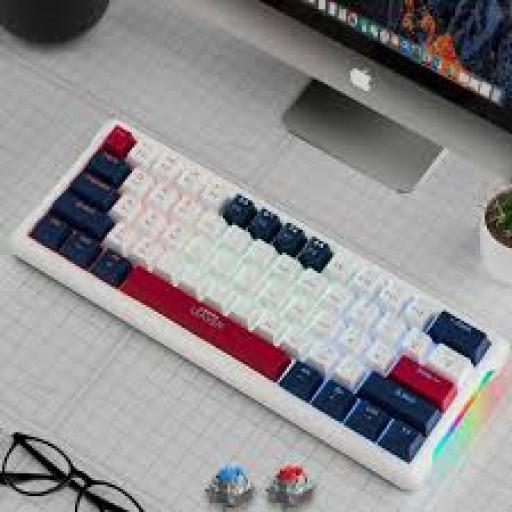KEYBOARD-2: (14, 121, 507, 487)
